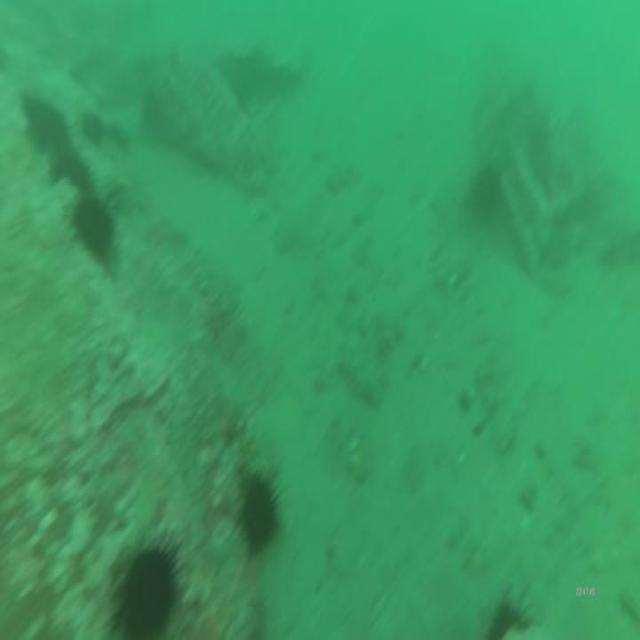echinus: (109, 535, 185, 640), (233, 466, 286, 564), (68, 188, 118, 266), (483, 586, 542, 640), (20, 95, 70, 155), (469, 161, 504, 226), (46, 147, 92, 188), (80, 104, 105, 147)
